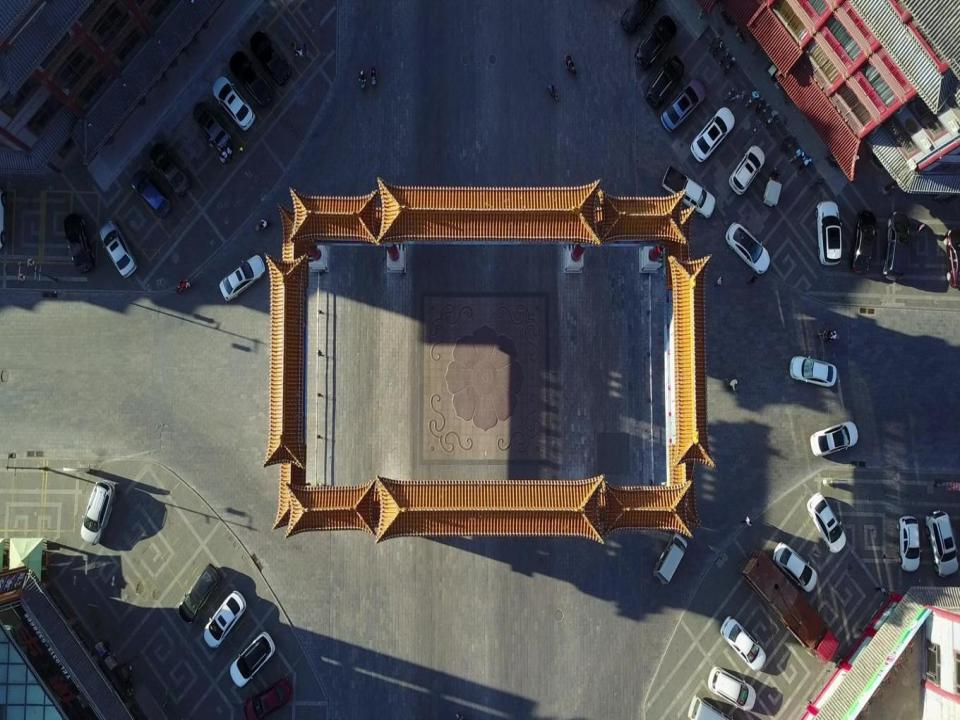car: (229, 632, 276, 688), (660, 77, 707, 133), (690, 106, 736, 163), (179, 563, 221, 624), (203, 591, 247, 649), (720, 616, 766, 671), (229, 51, 273, 108), (806, 492, 846, 554), (80, 478, 116, 546), (725, 221, 770, 275), (634, 15, 677, 71), (98, 219, 138, 279), (772, 541, 818, 593), (212, 76, 255, 131), (924, 509, 958, 578), (148, 142, 190, 197), (250, 30, 291, 86), (707, 666, 756, 712), (219, 255, 265, 301), (243, 677, 292, 720), (881, 211, 911, 281), (193, 102, 233, 154), (644, 56, 684, 108), (62, 212, 95, 274), (728, 144, 766, 196), (131, 170, 172, 218), (848, 210, 876, 275), (815, 200, 842, 266), (810, 420, 858, 456), (789, 355, 837, 388), (620, 0, 662, 36), (896, 516, 922, 572), (943, 229, 960, 288)
truck: (661, 165, 716, 218)
van: (652, 531, 688, 585), (687, 694, 734, 720)
